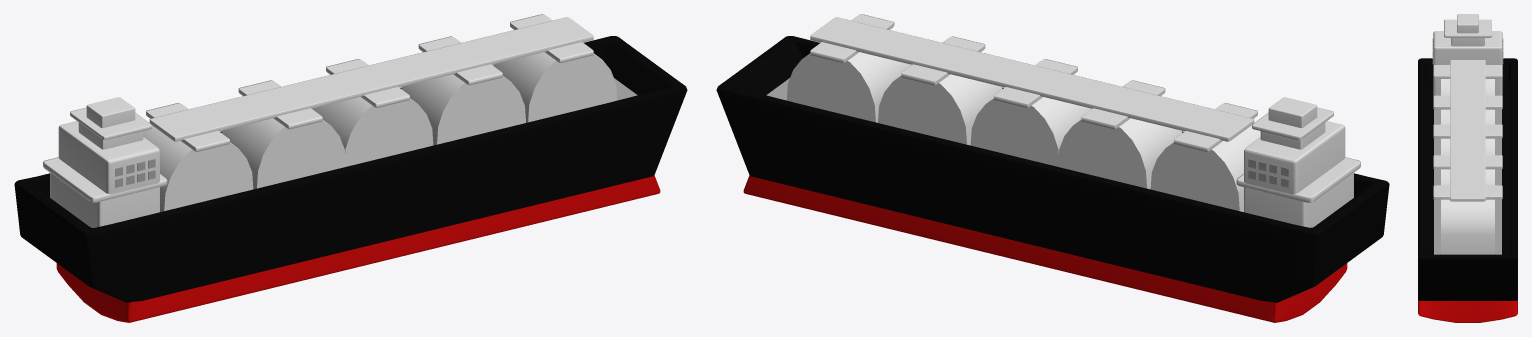
File: Ship_2.fbx
3 renders of one model, left to right at view 1: azimuth 30°, elevation 25°; view 2: azimuth 150°, elevation 25°; view 3: azimuth 270°, elevation 25°, orthographic. The views are drawn at different scales.
Visible parts, largest first — view 1: Ship_2; view 2: Ship_2; view 3: Ship_2.
Part boxes in pixels (x1,y1,x2,y2): Ship_2: [14, 14, 687, 322]; Ship_2: [716, 14, 1389, 322]; Ship_2: [1418, 14, 1517, 322].
Bounding box in the file's own units: 7.87 × 2.48 × 1.66.
